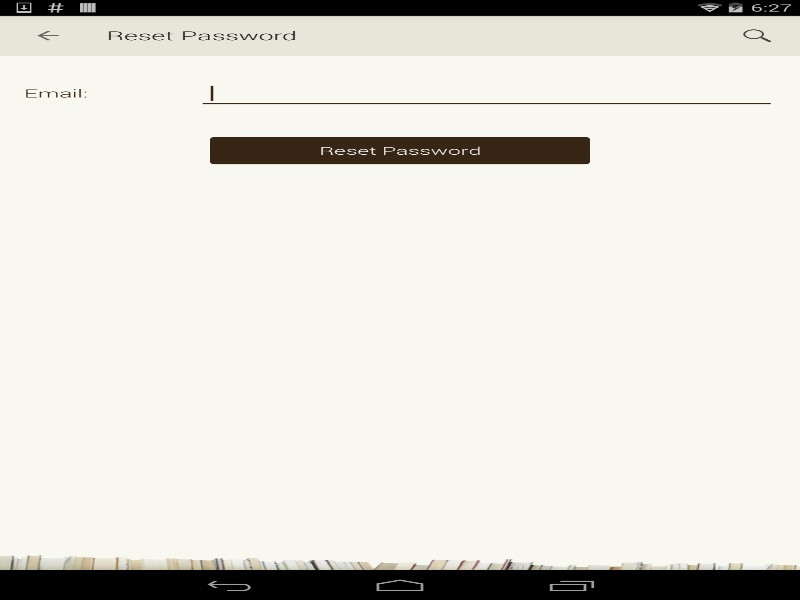Button: (210, 136, 590, 164), (10, 15, 85, 55)
Input: (197, 77, 776, 108)
